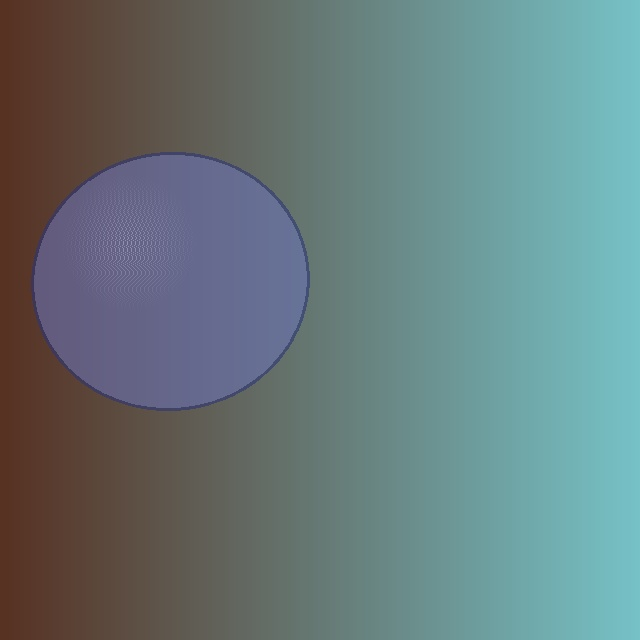lens: (33, 154, 307, 408)
